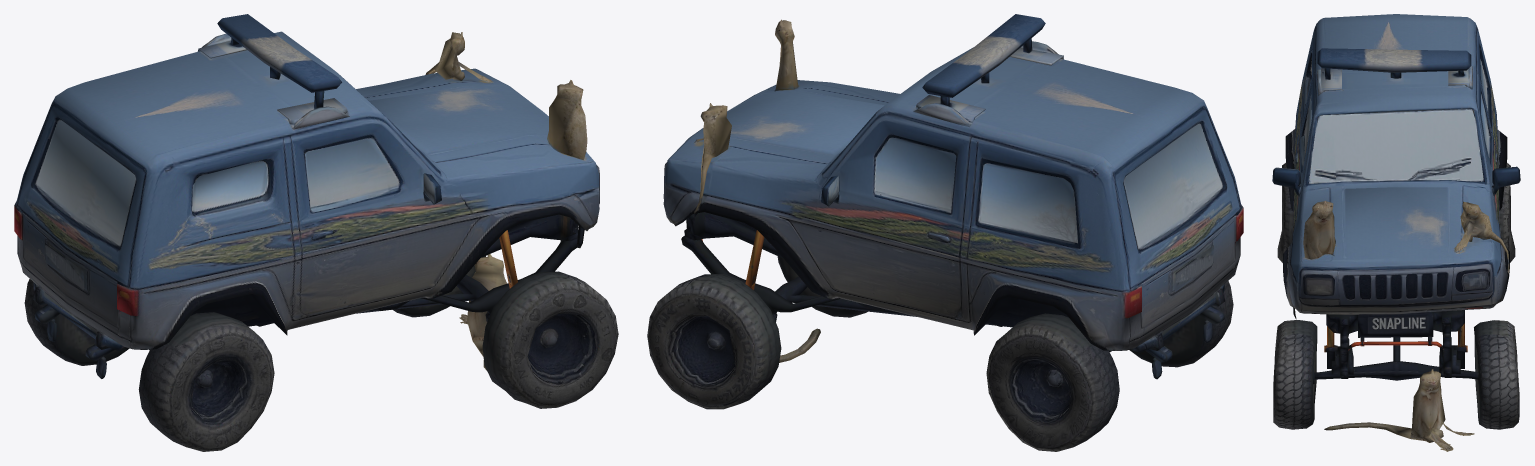
The model's file is jeep.glb.
3 renders of one model, left to right at view 1: azimuth 30°, elevation 25°; view 2: azimuth 150°, elevation 25°; view 3: azimuth 270°, elevation 25°, orthographic. The views are drawn at different scales.
Visible parts, largest first — view 1: tripo_node_f774ec8a-a703-4603-a210-146799584046; view 2: tripo_node_f774ec8a-a703-4603-a210-146799584046; view 3: tripo_node_f774ec8a-a703-4603-a210-146799584046.
Boxes of the visible parts, left/top/right/bottom form: tripo_node_f774ec8a-a703-4603-a210-146799584046: left=14, top=14, right=618, bottom=451; tripo_node_f774ec8a-a703-4603-a210-146799584046: left=647, top=14, right=1243, bottom=451; tripo_node_f774ec8a-a703-4603-a210-146799584046: left=1272, top=14, right=1520, bottom=451.
Bounding box in the file's own units: 0.998 × 0.7168 × 0.5488.
Materials: 1 (1 with a texture image).
